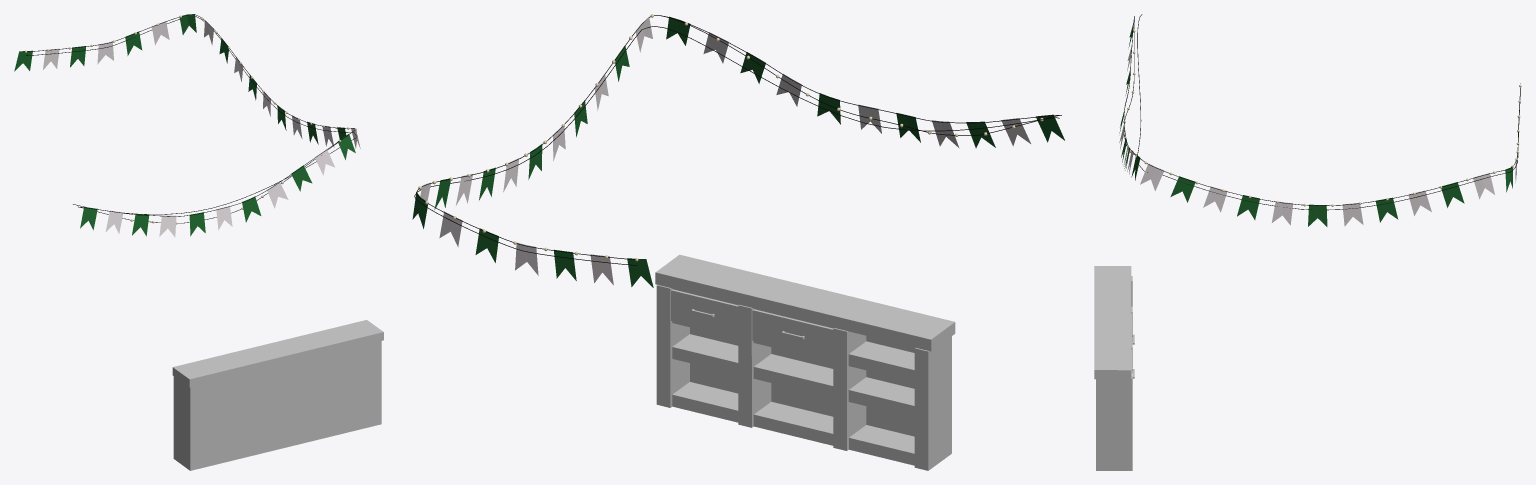
File: counter_lights_banners.fbx
3 renders of one model, left to right at view 1: azimuth 30°, elevation 25°; view 2: azimuth 150°, elevation 25°; view 3: azimuth 270°, elevation 25°, orthographic. The views are drawn at different scales.
Visible parts, largest first — view 1: Counter_quests, banners_new, Round_lights, hanging_lights; view 2: Counter_quests, banners_new, Round_lights, hanging_lights; view 3: Counter_quests, banners_new, Round_lights, hanging_lights.
Boxes of the visible parts, left/top/right/bottom form: Counter_quests: left=172, top=320, right=383, bottom=470; banners_new: left=14, top=14, right=360, bottom=237; Round_lights: left=25, top=14, right=356, bottom=224; hanging_lights: left=26, top=16, right=357, bottom=214; Counter_quests: left=655, top=254, right=955, bottom=470; banners_new: left=412, top=15, right=1064, bottom=287; Round_lights: left=416, top=14, right=1061, bottom=261; hanging_lights: left=414, top=26, right=1059, bottom=265; Counter_quests: left=1094, top=266, right=1134, bottom=470; banners_new: left=1119, top=16, right=1520, bottom=226; Round_lights: left=1123, top=18, right=1521, bottom=206; hanging_lights: left=1137, top=14, right=1520, bottom=210.
Bounding box in the file's own units: 1490 × 1358 × 1710.
